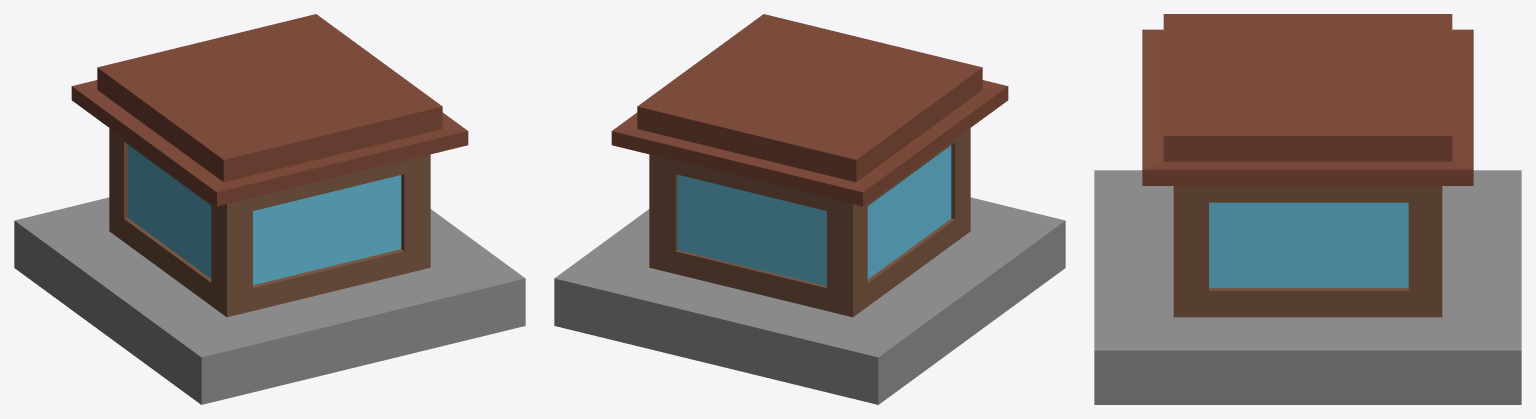
Rendered from PlacePin.fbx.
3 views of the same model, side by side, from view 1: azimuth 30°, elevation 25°; view 2: azimuth 150°, elevation 25°; view 3: azimuth 270°, elevation 25° (orthographic). The views are drawn at different scales.
Parts seen in each view (by area): view 1: PlacePin; view 2: PlacePin; view 3: PlacePin.
Boxes of the visible parts, box(x1,y1,x2,y2) form: PlacePin: box(14, 14, 525, 404); PlacePin: box(554, 14, 1065, 404); PlacePin: box(1094, 14, 1521, 404).
Size of the model in its own units: 200 by 124 by 200.
